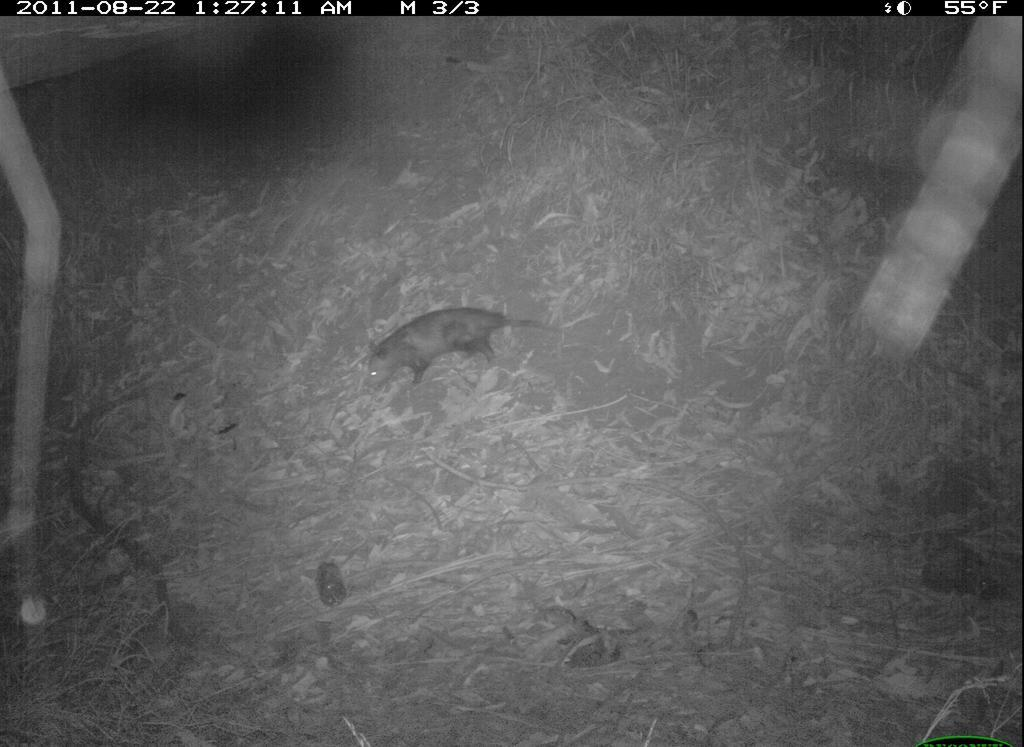opossum: (361, 296, 588, 402)
